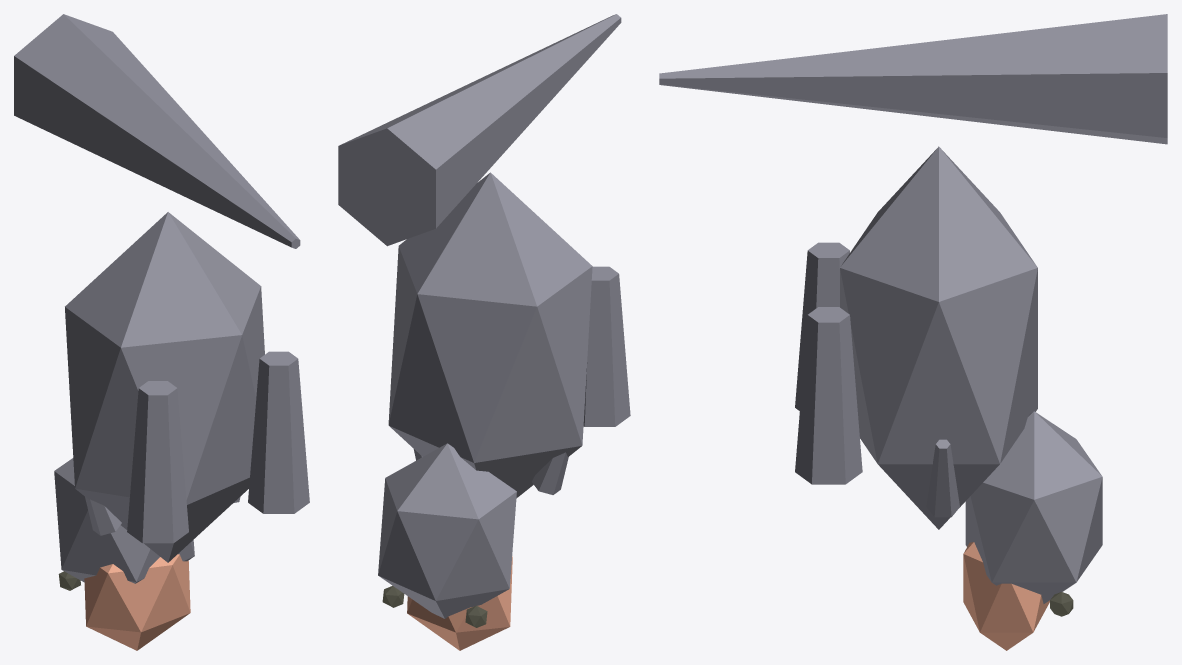
Rendered from allosaurus.glb.
The picture shows the model from 3 angles, left to right: view 1: azimuth 30°, elevation 25°; view 2: azimuth 150°, elevation 25°; view 3: azimuth 270°, elevation 25°; orthographic projection. The views are drawn at different scales.
Parts seen in each view (by area): view 1: Body, Tail, Leg, Leg.001, Snout, Head, Arm; view 2: Body, Tail, Head, Leg, Snout, Arm; view 3: Body, Tail, Head, Leg.001, Snout, Leg, Arm.001.
Part boxes in pixels (<box>): Body: <box>65,212,264,562</box>; Tail: <box>14,14,300,248</box>; Leg: <box>127,381,188,543</box>; Leg.001: <box>248,351,309,513</box>; Snout: <box>84,554,190,650</box>; Head: <box>54,458,194,583</box>; Arm: <box>85,497,121,535</box>; Body: <box>388,172,592,498</box>; Tail: <box>338,14,621,246</box>; Head: <box>378,443,516,618</box>; Leg: <box>583,266,630,426</box>; Snout: <box>407,556,512,650</box>; Arm: <box>532,452,568,494</box>; Body: <box>840,146,1037,529</box>; Tail: <box>659,14,1167,144</box>; Head: <box>965,411,1102,603</box>; Leg.001: <box>795,307,862,484</box>; Snout: <box>963,542,1049,650</box>; Leg: <box>795,242,849,410</box>; Arm.001: <box>926,439,959,517</box>.
Bounding box in the file's own units: 1.28 × 3.82 × 2.76.
